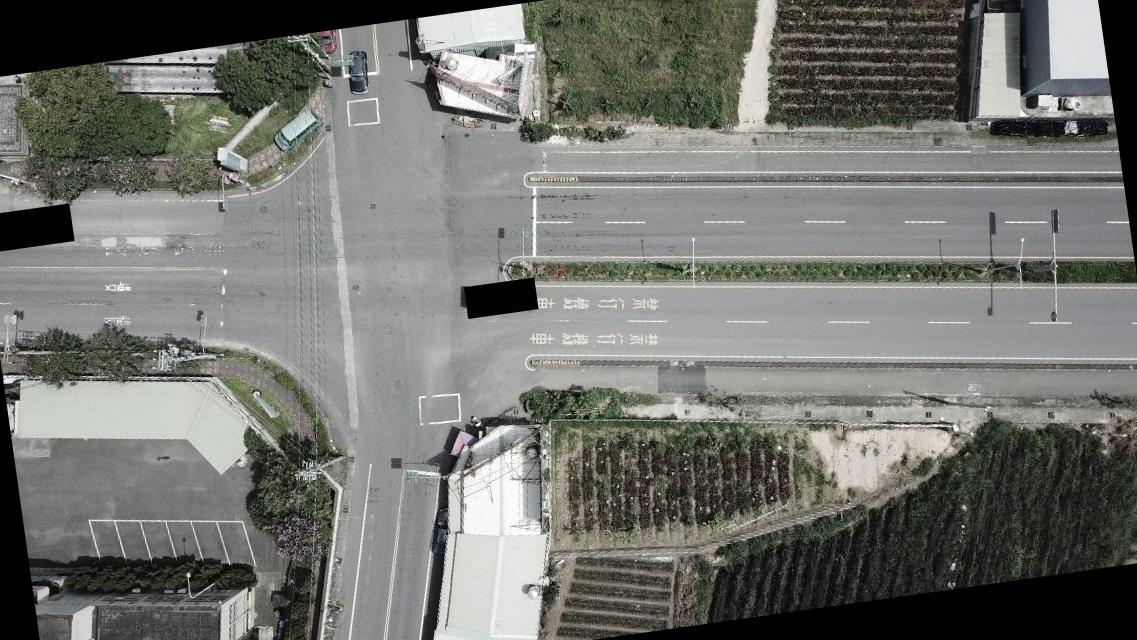vehicle: (270, 108, 328, 152), (426, 507, 460, 557), (340, 40, 370, 94), (313, 30, 336, 56)
